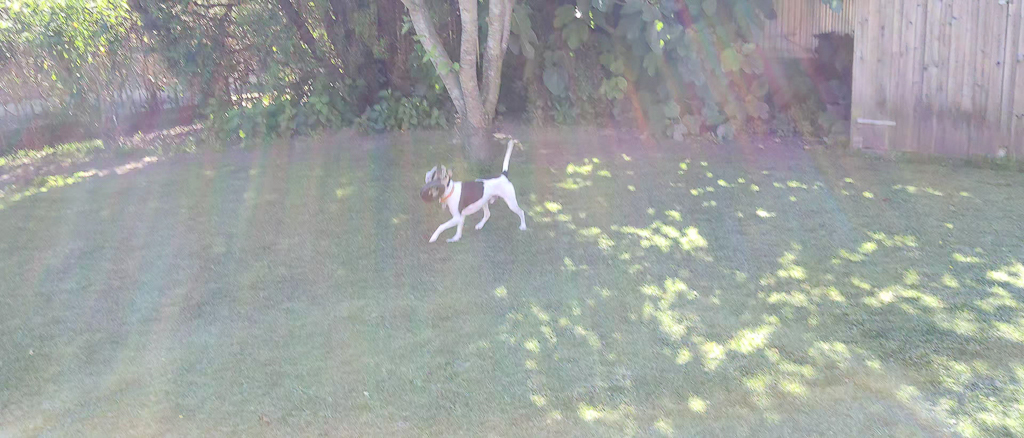Dog: (418, 136, 530, 245)
